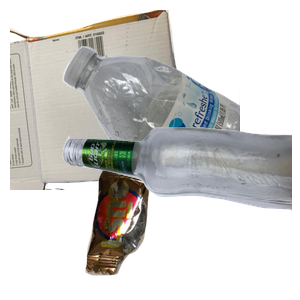cardboard: (10, 10, 191, 190)
glass: (60, 124, 300, 300)
plastic: (60, 44, 300, 224)
trash: (83, 160, 233, 300)
